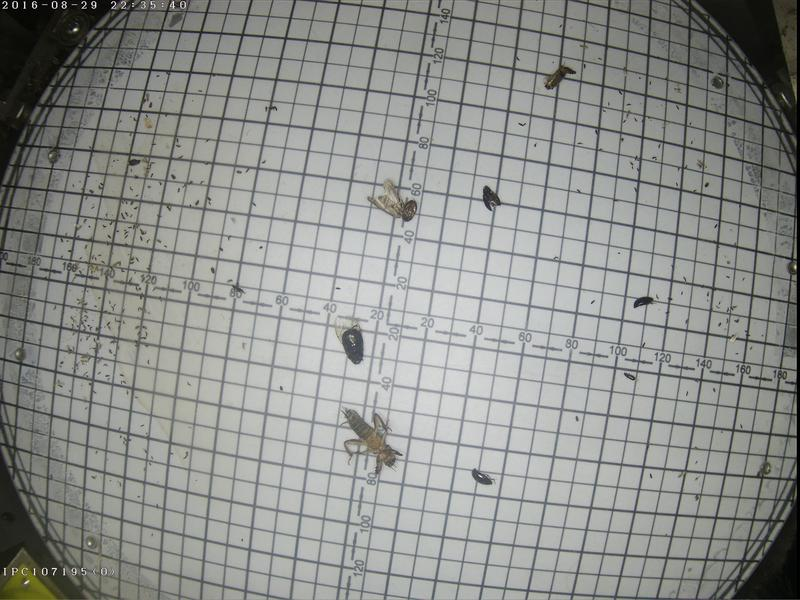Gryllotalpa orientalis: (339, 402, 400, 472)
Spodoptera litura: (366, 177, 403, 215)
